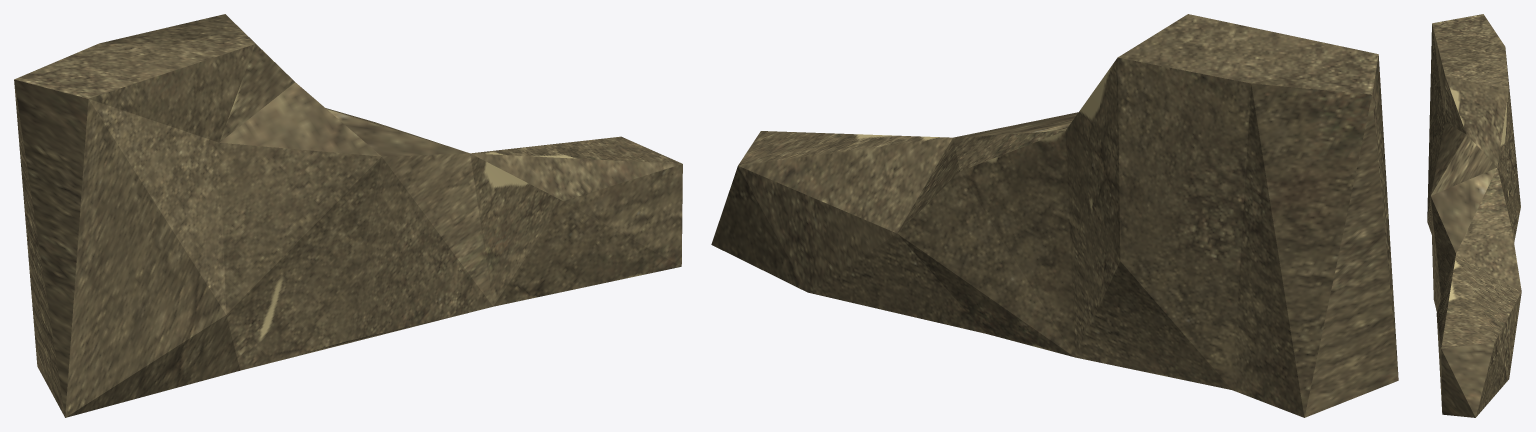
File: CaveWalls2_B_COL.obj
3 views of the same model, side by side, from view 1: azimuth 30°, elevation 25°; view 2: azimuth 150°, elevation 25°; view 3: azimuth 270°, elevation 25° (orthographic). The views are drawn at different scales.
Parts seen in each view (by area): view 1: CaveWalls2_B.003; view 2: CaveWalls2_B.003; view 3: CaveWalls2_B.003.
Part boxes in pixels (left/top/right/bottom): CaveWalls2_B.003: left=14, top=14, right=682, bottom=417; CaveWalls2_B.003: left=711, top=14, right=1398, bottom=417; CaveWalls2_B.003: left=1427, top=14, right=1521, bottom=417.
Bounding box in the file's own units: 68.61 × 32.35 × 13.4.
Materials: 1 (1 with a texture image).
